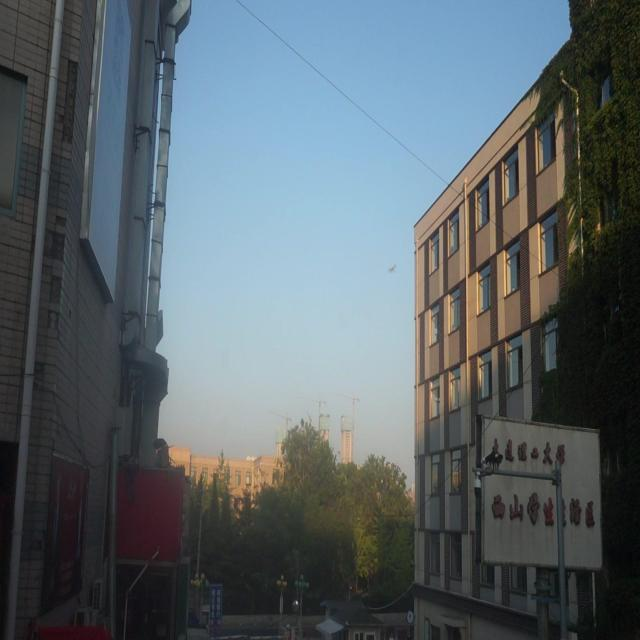UAV: (388, 264, 397, 274)
